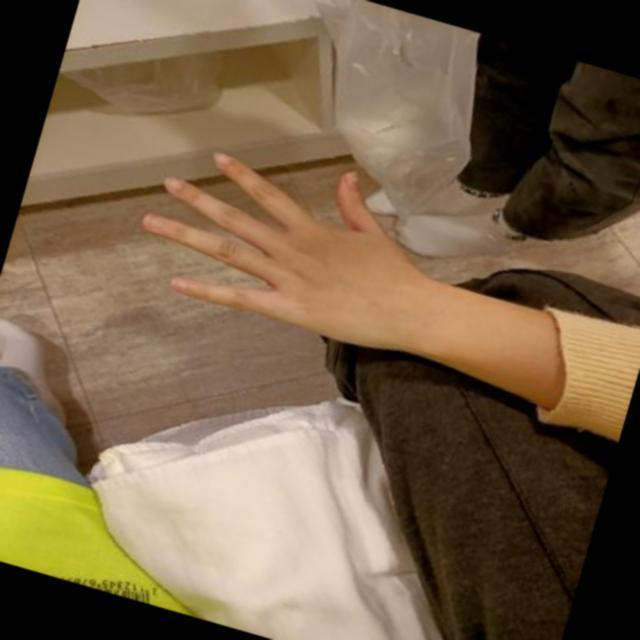hand: (140, 153, 456, 361)
